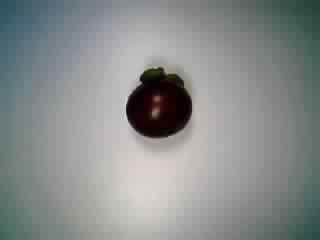mangosteen: (120, 62, 195, 137)
